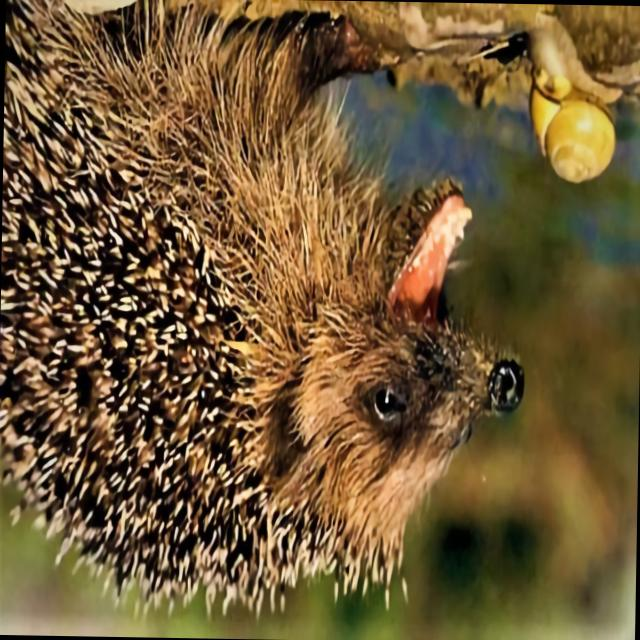Hedgehog: (0, 0, 529, 610)
